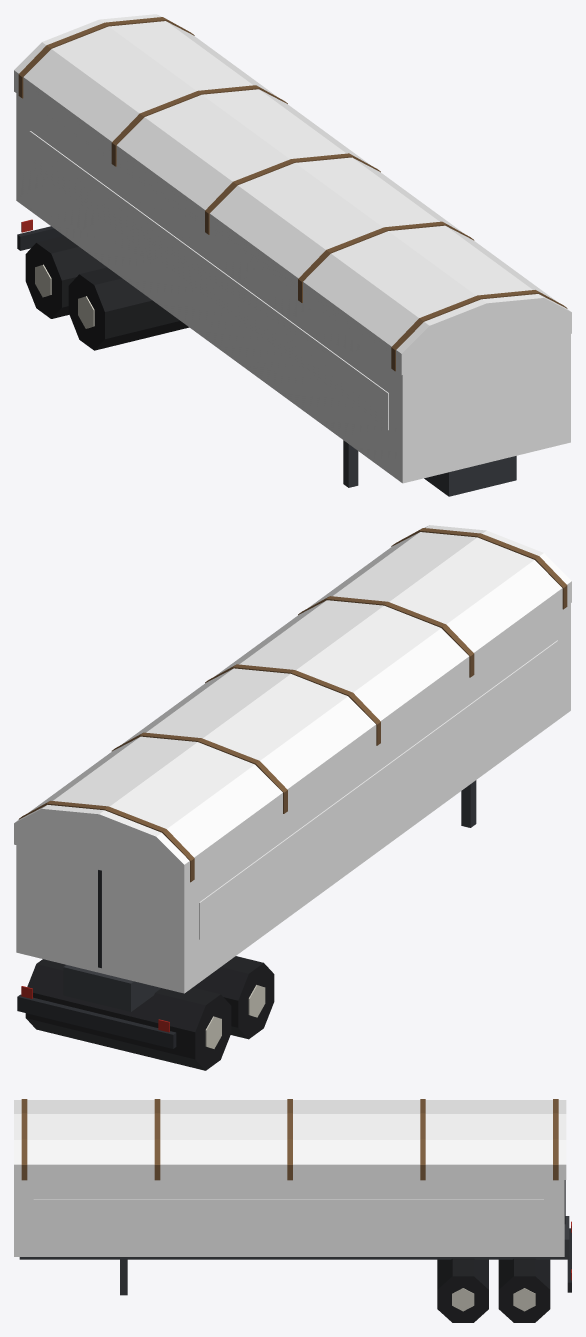
Rendered from rt_truck_b.glb.
3 renders of one model, top to bottom at view 1: azimuth 30°, elevation 25°; view 2: azimuth 150°, elevation 25°; view 3: azimuth 270°, elevation 25°, orthographic. The views are drawn at different scales.
Visible parts, largest first — view 1: model; view 2: model; view 3: model.
Part boxes in pixels (x1,y1,x2,y2): model: [14, 14, 571, 496]; model: [14, 525, 571, 1070]; model: [14, 1099, 571, 1322].
Size of the model in its own units: 2.54 by 3.56 by 10.
